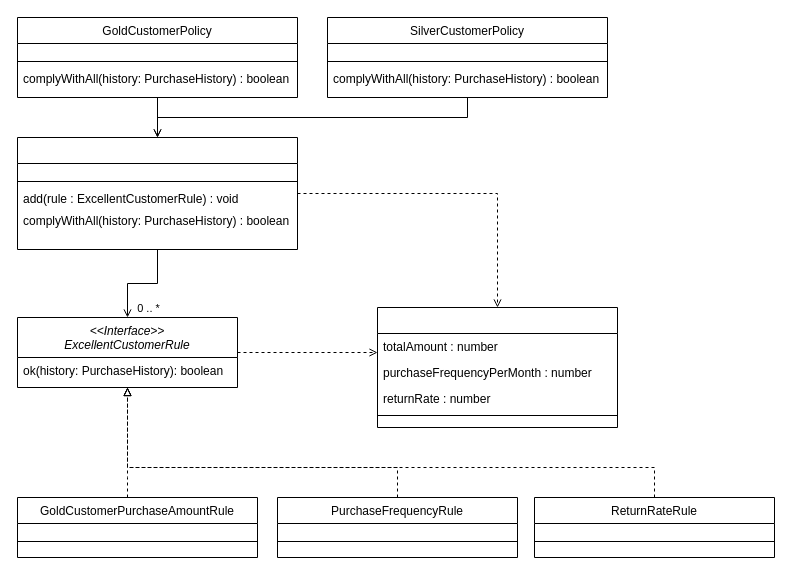
Some shapes in this 792 by 575 pixel diagram are drawn without their labels. The shapes that lost their labels are listed below. From the top down, each one's box as (x1, y1, x2, y2) in pixels, then its label:
(16, 136, 298, 250): ExcellentCusomeryPolicy
(376, 306, 618, 428): PurchaseHistory
